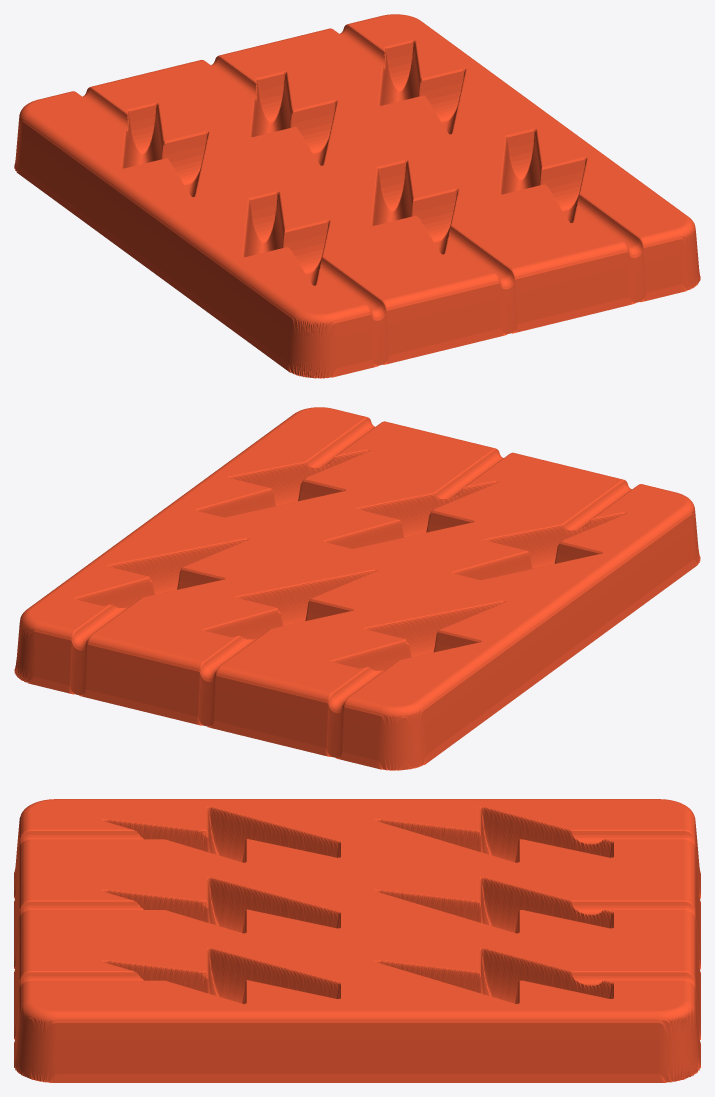
The model's file is mold.glb.
The picture shows the model from 3 angles, top to bottom: view 1: azimuth 30°, elevation 25°; view 2: azimuth 150°, elevation 25°; view 3: azimuth 270°, elevation 25°; orthographic projection. The views are drawn at different scales.
Parts seen in each view (by area): view 1: geometry_0; view 2: geometry_0; view 3: geometry_0.
Part boxes in pixels (x1,y1,x2,y2): geometry_0: [14, 14, 700, 378]; geometry_0: [14, 407, 700, 770]; geometry_0: [14, 799, 700, 1082].
Bounding box in the file's own units: 0.1142 × 0.0155 × 0.1477.
